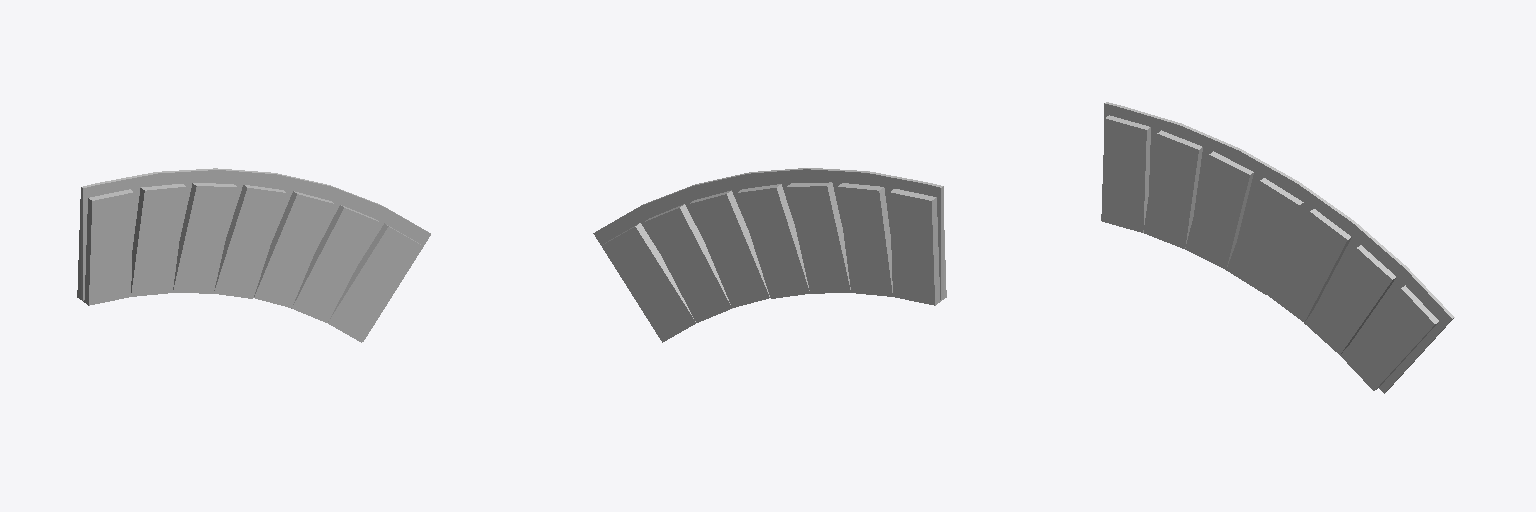
The model's file is lime_mortar_orange_clay_brick_facade_segmental_arch_2_right_bottom.obj.
3 views of the same model, side by side, from view 1: azimuth 30°, elevation 25°; view 2: azimuth 150°, elevation 25°; view 3: azimuth 330°, elevation 25° (orthographic).
Parts seen in each view (by area): view 1: brick.012, brick.006, brick.011, brick.010, brick.008, brick.009, brick.007, cube.116, cube.119, cube.120, cube.118, cube.122 (+2 smaller); view 2: brick.012, brick.011, brick.006, brick.010, brick.008, brick.009, brick.007, cube.119, cube.120, cube.118, cube.122, cube.117 (+2 smaller); view 3: brick.012, brick.011, brick.010, brick.008, brick.006, brick.009, brick.007, cube.116, cube.117, cube.118, cube.119, cube.120 (+1 smaller).
Boxes of the visible parts, x1,y1,x2,y2 form: brick.012: [77, 189, 133, 305]; brick.006: [328, 223, 421, 342]; brick.011: [131, 184, 185, 296]; brick.010: [173, 183, 237, 293]; brick.008: [214, 185, 286, 298]; brick.009: [254, 191, 334, 307]; brick.007: [291, 205, 379, 322]; cube.116: [359, 207, 430, 341]; cube.119: [215, 168, 275, 233]; cube.120: [156, 168, 217, 236]; cube.118: [271, 173, 331, 242]; cube.122: [96, 172, 157, 241]; brick.012: [890, 189, 946, 305]; brick.011: [838, 183, 892, 296]; brick.006: [602, 223, 695, 342]; brick.010: [786, 182, 850, 293]; brick.008: [737, 184, 809, 298]; brick.009: [689, 190, 769, 307]; brick.007: [644, 204, 732, 322]; cube.119: [749, 168, 809, 223]; cube.120: [807, 168, 867, 226]; cube.118: [693, 172, 753, 227]; cube.122: [867, 171, 927, 233]; cube.117: [641, 185, 702, 237]; brick.012: [1101, 115, 1150, 232]; brick.011: [1144, 130, 1202, 248]; brick.010: [1185, 151, 1253, 269]; brick.008: [1226, 178, 1303, 294]; brick.006: [1340, 285, 1438, 390]; brick.009: [1266, 209, 1351, 322]; brick.007: [1304, 245, 1395, 354]; cube.116: [1354, 267, 1454, 393]; cube.117: [1314, 221, 1406, 343]; cube.118: [1277, 182, 1353, 272]; cube.119: [1235, 149, 1298, 239]; cube.120: [1178, 123, 1240, 212].
Size of the model in its own units: 1.29 by 0.7873 by 0.0741.